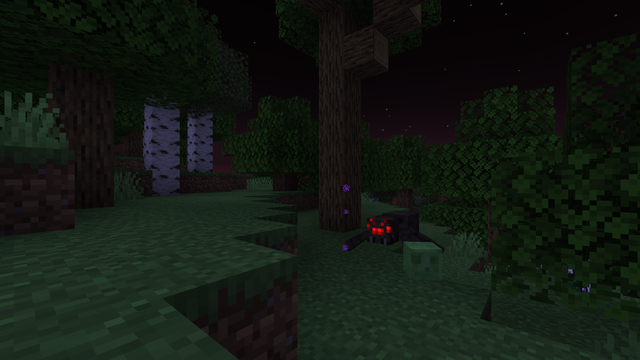araignees: (348, 207, 433, 262)
slimes: (400, 239, 441, 282)
